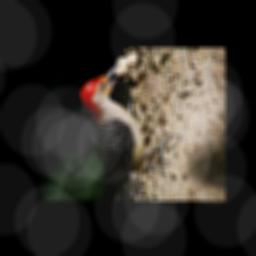Woodpecker: (80, 62, 184, 199)
